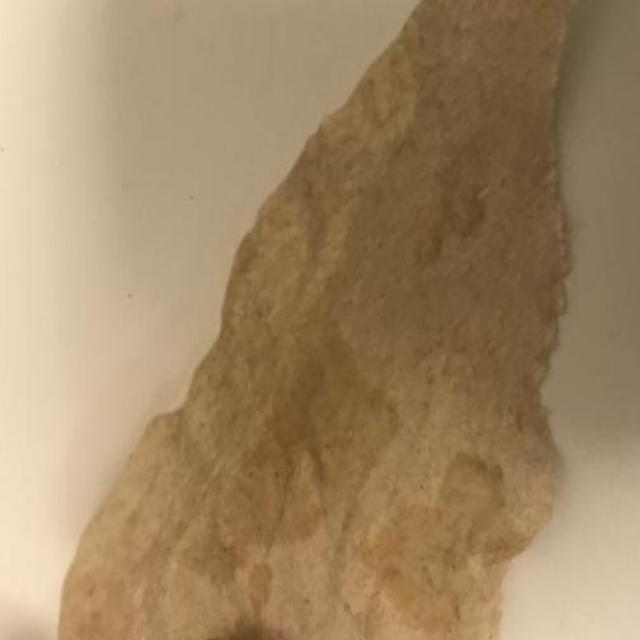paper: (60, 1, 569, 638)
